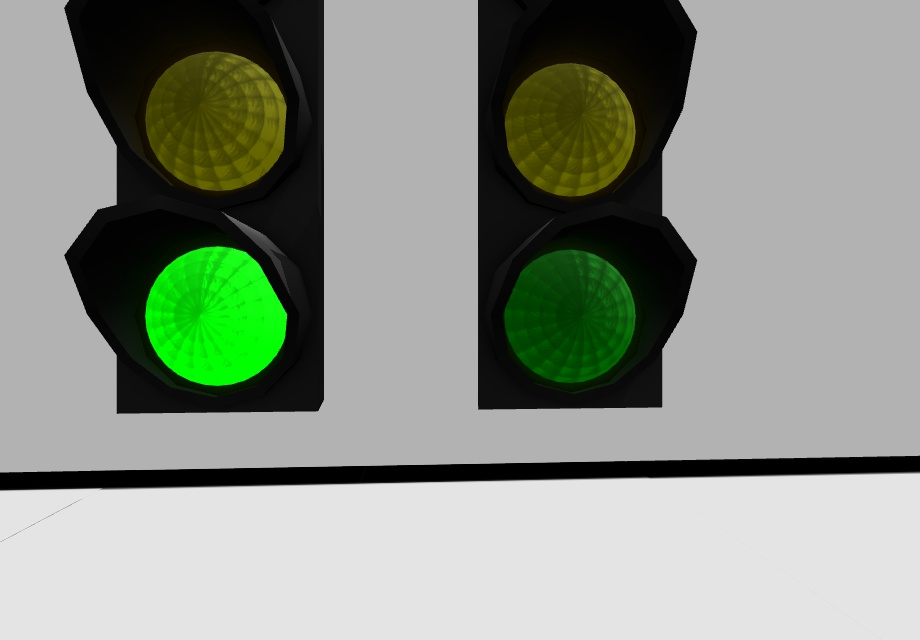green_off: (502, 250, 628, 383)
green_on: (144, 247, 287, 392)
